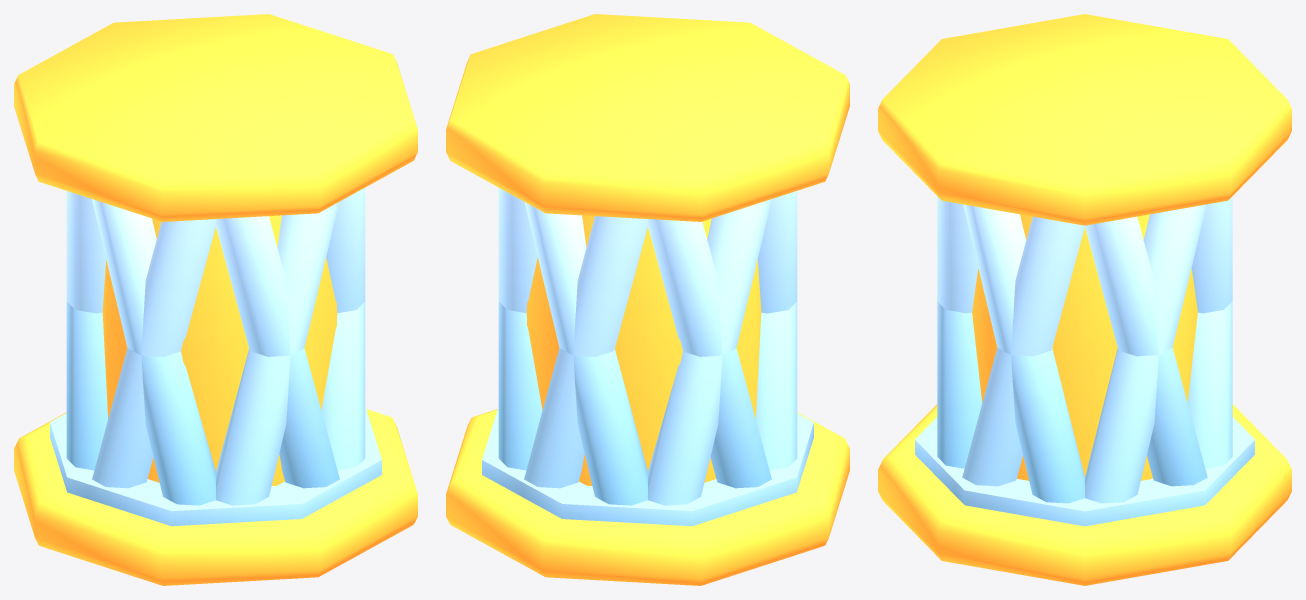
The model's file is gold_and_steel_grip_056.glb.
3 views of the same model, side by side, from view 1: azimuth 30°, elevation 25°; view 2: azimuth 150°, elevation 25°; view 3: azimuth 270°, elevation 25° (orthographic).
Visible parts, largest first — view 1: gold_and_steel_grip_056; view 2: gold_and_steel_grip_056; view 3: gold_and_steel_grip_056.
Boxes of the visible parts, x1,y1,x2,y2 form: gold_and_steel_grip_056: (14, 14, 417, 585); gold_and_steel_grip_056: (446, 14, 849, 585); gold_and_steel_grip_056: (878, 14, 1291, 585).
Size of the model in its own units: 2.89 by 3.17 by 2.89.
1 material, 1 textured.
